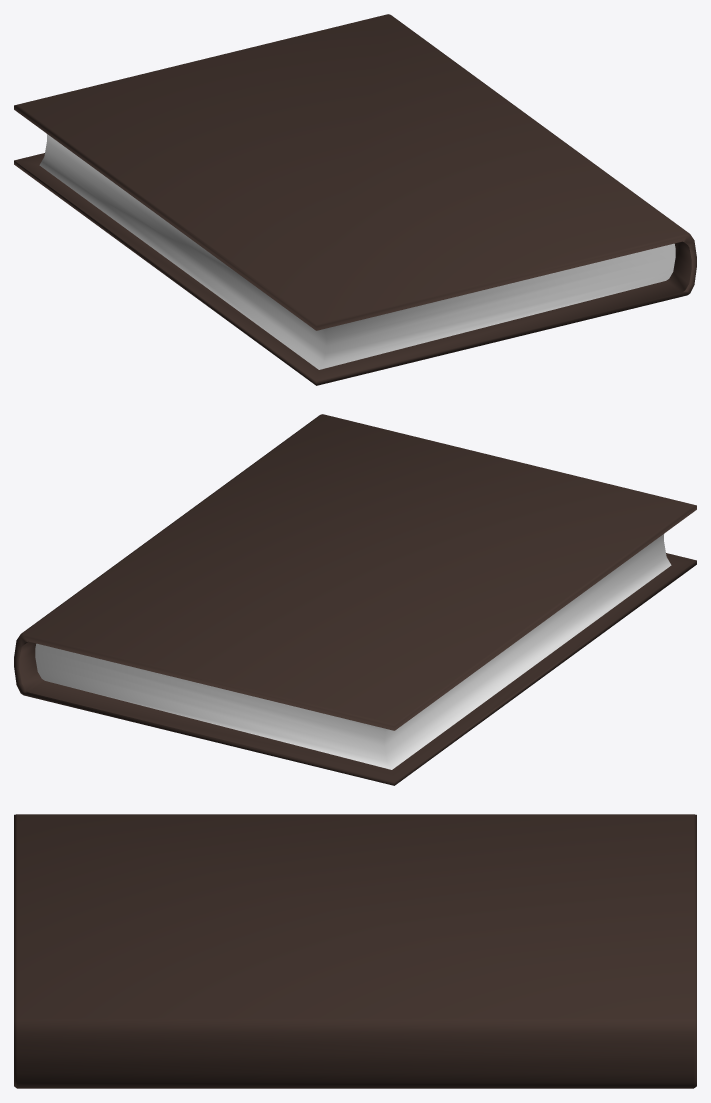
Rendered from notebook.glb.
The picture shows the model from 3 angles, top to bottom: view 1: azimuth 30°, elevation 25°; view 2: azimuth 150°, elevation 25°; view 3: azimuth 270°, elevation 25°; orthographic projection. The views are drawn at different scales.
Visible parts, largest first — view 1: prop_book.002; view 2: prop_book.002; view 3: prop_book.002.
Boxes of the visible parts, <box> form: prop_book.002: <box>14,14,696,385</box>; prop_book.002: <box>14,414,696,785</box>; prop_book.002: <box>14,814,696,1088</box>.
Bounding box in the file's own units: 0.1608 × 0.025 × 0.2204.
